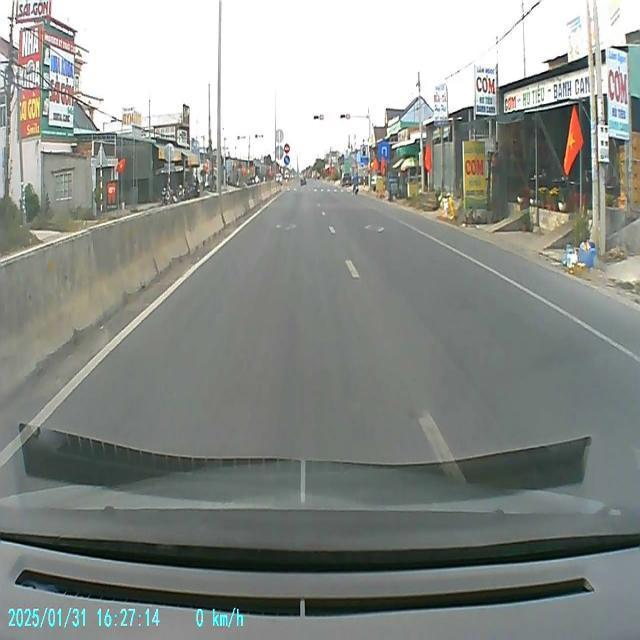102-cam-di-nguoc-chieu: (283, 143, 289, 153)
302a-huong-phai-di-vong-chuong-ngai-vat-1: (282, 155, 290, 165)
